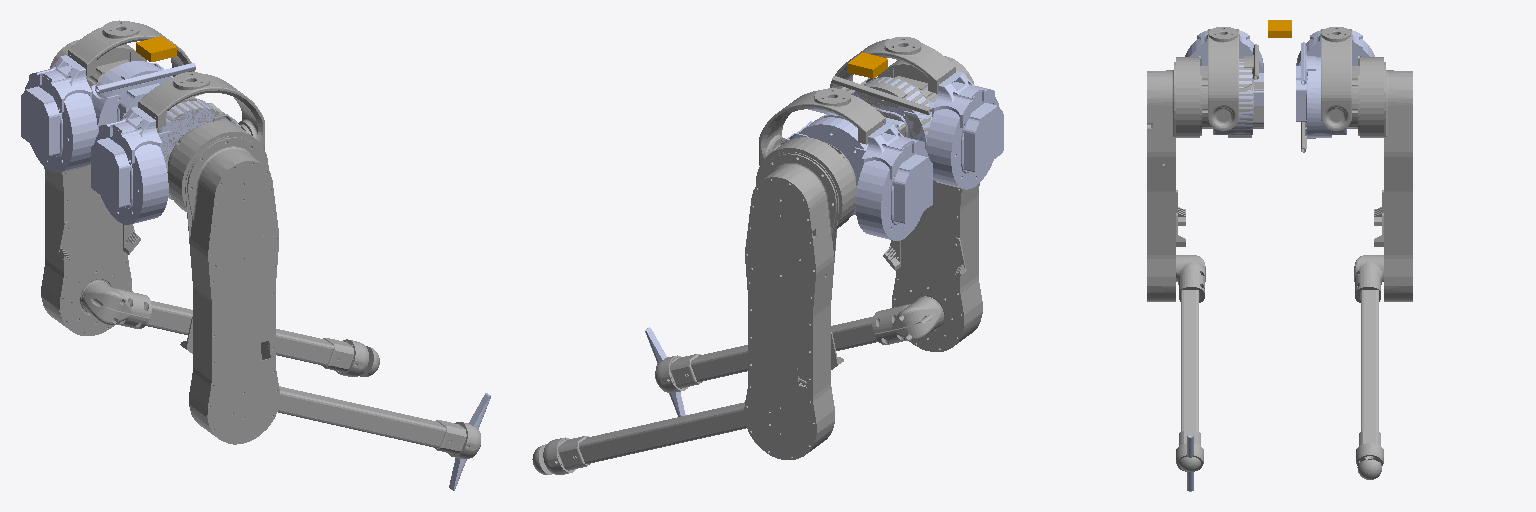
URDF robot description (biped):
<?xml version="1.0" encoding="utf-8"?>
<robot
    name="biped">

  <mujoco>
        <compiler 
        meshdir="../meshes_v2/" 
        balanceinertia="false" 
        discardvisual="false" />
  </mujoco>

  <!-- Imu -->
  <link name="imu">
    <visual>
      <origin xyz="0 0 0" rpy="0 0 0"/>
      <geometry>
      <box size="0.03 0.03 0.01"/>
      </geometry>
    </visual>

    <inertial>
      <mass value="0.01" />
      <origin xyz="0 0 0" rpy="0 0 0"/>
      <inertia ixx="1e-5" ixy="0" ixz="0" iyy="1e-5" iyz="0" izz="1e-5" />
    </inertial>
  </link>

  <joint name="imu_joint" type="fixed">
      <origin xyz="0 0 0" rpy="-3.141592 0 0"/>
      <parent link="base_link"/>
      <child link="imu"/>
  </joint>  

  <link
name="base_link">
    <inertial>
      <origin
        xyz="-0.022 0 0.068"
        rpy="0 0 0" />
      <mass
        value="3.272" />
      <inertia
        ixx="0.018"
        ixy="0.0"
        ixz="0.0"
        iyy="0.030"
        iyz="0.0"
        izz="0.026" />
    </inertial>
    <visual>
      <origin
        xyz="0 0 0"
        rpy="0 0 0" />
      <geometry>
        <mesh
          filename="package://biped_robot_description/meshes_v2/base_link_v2.STL" />
      </geometry>
      <material
        name="">
        <color
          rgba="0.75294 0.75294 0.75294 1" />
      </material>
    </visual>
    <collision>
      <origin
        xyz="0 0 0"
        rpy="0 0 0" />
      <geometry>
        <mesh
          filename="package://biped_robot_description/meshes_v2/base_link_v2.STL" />
      </geometry>
    </collision>
  </link>
  <link
    name="R_HIP">
    <inertial>
      <origin
        xyz="-0.0542 0.0 -0.072"
        rpy="0 0 0" />
      <mass
        value="0.624" />
      <inertia
        ixx="0.002"
        ixy="0.0"
        ixz="0.0"
        iyy="0.001"
        iyz="0.0"
        izz="0.001" />
    </inertial>
    <visual>
      <origin
        xyz="0 0 0"
        rpy="0 0 0" />
      <geometry>
        <mesh
          filename="package://biped_robot_description/meshes_v2/R_HIP.STL" />
      </geometry>
      <material
        name="">
        <color
          rgba="0.69804 0.69804 0.69804 1" />
      </material>
    </visual>
    <collision>
      <origin
        xyz="0 0 0"
        rpy="0 0 0" />
      <geometry>
        <mesh
          filename="package://biped_robot_description/meshes_v2/R_HIP.STL" />
      </geometry>
    </collision>
  </link>
  <joint
    name="R_YAW"
    type="revolute">
    <origin
      xyz="0 -0.07 -0.005"
      rpy="0 0 0" />
    <parent
      link="base_link" />
    <child
      link="R_HIP" />
    <axis
      xyz="0 0 1" />
    <limit
      lower="-0.3"
      upper="0.3"
      effort="20"
      velocity="20" />
  </joint>
  <link
    name="R_SHOULDER">
    <inertial>
      <origin
        xyz="-0.0020134 0.022813 -0.00077458"
        rpy="0 0 0" />
      <mass
        value="0.524" />
      <inertia
        ixx="0.0003"
        ixy="0.0"
        ixz="0.0"
        iyy="0.00068"
        iyz="0.0"
        izz="0.00048" />
    </inertial>
    <visual>
      <origin
        xyz="0 0 0"
        rpy="0 0 0" />
      <geometry>
        <mesh
          filename="package://biped_robot_description/meshes_v2/R_SHOULDER.STL" />
      </geometry>
      <material
        name="">
        <color
          rgba="0.79216 0.81961 0.93333 1" />
      </material>
    </visual>
    <collision>
      <origin
        xyz="0 0 0"
        rpy="0 0 0" />
      <geometry>
        <mesh
          filename="package://biped_robot_description/meshes_v2/R_SHOULDER.STL" />
      </geometry>
    </collision>
  </link>
  <joint
    name="R_HAA"
    type="revolute">
    <origin
      xyz="0.005 0 -0.086"
      rpy="0 0 0" />
    <parent
      link="R_HIP" />
    <child
      link="R_SHOULDER" />
    <axis
      xyz="1 0 0" />
    <limit
      lower="-0.25"
      upper="0.25"
      effort="20"
      velocity="20" />
  </joint>
  <link
    name="R_UPPER_LEG">
    <inertial>
      <origin
        xyz="0.0 -0.058 -0.054"
        rpy="0 0 0" />
      <mass
        value="0.880" />
      <inertia
        ixx="0.008"
        ixy="0.0"
        ixz="0.0"
        iyy="0.008"
        iyz="0.0"
        izz="0.001" />
    </inertial>
    <visual>
      <origin
        xyz="0 0 0"
        rpy="0 0 0" />
      <geometry>
        <mesh
          filename="package://biped_robot_description/meshes_v2/R_UPPER_LEG.STL" />
      </geometry>
      <material
        name="">
        <color
          rgba="0.69804 0.69804 0.69804 1" />
      </material>
    </visual>
    <collision>
      <origin
        xyz="0 0 0"
        rpy="0 0 0" />
      <geometry>
        <mesh
          filename="package://biped_robot_description/meshes_v2/R_UPPER_LEG.STL" />
      </geometry>
    </collision>
  </link>
  <joint
    name="R_HFE"
    type="revolute">
    <origin
      xyz="0 0 0"
      rpy="0 0 0" />
    <parent
      link="R_SHOULDER" />
    <child
      link="R_UPPER_LEG" />
    <axis
      xyz="0 1 0" />
    <limit
      lower="-1.5"
      upper="1.5"
      effort="20"
      velocity="20" />
  </joint>
  <link
    name="R_LOWER_LEG">
    <inertial>
      <origin
        xyz="0.0 0.017 -0.150"
        rpy="0 0 0" />
      <mass
        value="0.118" />
      <inertia
        ixx="0.0017"
        ixy="0.0"
        ixz="0.0"
        iyy="0.0017"
        iyz="0.0"
        izz="0.0000001" />
    </inertial>
    <visual>
      <origin
        xyz="0 0 0"
        rpy="0 0 0" />
      <geometry>
        <mesh
          filename="package://biped_robot_description/meshes_v2/R_LOWER_LEG.STL" />
      </geometry>
      <material
        name="">
        <color
          rgba="0.698039215686274 0.698039215686274 0.698039215686274 1" />
      </material>
    </visual>
    <collision>
      <origin
        xyz="0 0 0"
        rpy="0 0 0" />
      <geometry>
        <mesh
          filename="package://biped_robot_description/meshes_v2/R_LOWER_LEG.STL" />
      </geometry>
    </collision>
  </link>
  <joint
    name="R_KFE"
    type="revolute">
    <origin
      xyz="0 -0.0584 -0.23405"
      rpy="0 0 0" />
    <parent
      link="R_UPPER_LEG" />
    <child
      link="R_LOWER_LEG" />
    <axis
      xyz="0 1 0" />
    <limit
      lower="-2.2"
      upper="-0.1"
      effort="20"
      velocity="20" />
  </joint>
  <link
    name="R_FOOT">
    <inertial>
      <origin
        xyz="-0.00185 4.9998E-05 -0.0083528"
        rpy="0 0 0" />
      <mass
        value="0.01012" />
      <inertia
        ixx="8.7764E-07"
        ixy="-5.0952E-13"
        ixz="-2.965E-13"
        iyy="8.3715E-07"
        iyz="2.3726E-13"
        izz="1.3924E-06" />
    </inertial>
    <visual>
      <origin
        xyz="0 0 0"
        rpy="0 0 0" />
      <geometry>
        <mesh
          filename="package://biped_robot_description/meshes/R_FOOT.STL" />
      </geometry>
      <material
        name="">
        <color
          rgba="0.79216 0.81961 0.93333 1" />
      </material>
    </visual>
    <collision>
      <origin
        xyz="0 0 0"
        rpy="0 0 0" />
      <geometry>
        <mesh
          filename="package://biped_robot_description/meshes/R_FOOT.STL" />
      </geometry>
    </collision>
  </link>
  <joint
    name="R_ANKLE"
    type="revolute">
    <origin
      xyz="0.000 0.0173 -0.30326"
      rpy="0 0 0" />
    <parent
      link="R_LOWER_LEG" />
    <child
      link="R_FOOT" />
    <axis
      xyz="0 1 0" />
    <limit
      lower="-1.6"
      upper="1.6"
      effort="20"
      velocity="20" />
  </joint>

    <link name="R_FOOT_CONTACT"></link>
  <joint
    name="R_FOOT_CONTACT_JOINT"
    type="fixed">
    <origin
      xyz="0.0 0.0173 -0.30326"
      rpy="0 0 0" />
    <parent link="R_LOWER_LEG" />
    <child link="R_FOOT_CONTACT" />
  </joint>  

  
    <link
    name="L_HIP">
    <inertial>
      <origin
        xyz="-0.0542 0.0 -0.072"
        rpy="0 0 0" />
      <mass
        value="0.624" />
      <inertia
        ixx="0.002"
        ixy="0.0"
        ixz="0.0"
        iyy="0.001"
        iyz="0.0"
        izz="0.001" />
    </inertial>
    <visual>
      <origin
        xyz="0 0 0"
        rpy="0 0 0" />
      <geometry>
        <mesh
          filename="package://biped_robot_description/meshes_v2/L_HIP.STL" />
      </geometry>
      <material
        name="">
        <color
          rgba="0.69804 0.69804 0.69804 1" />
      </material>
    </visual>
    <collision>
      <origin
        xyz="0 0 0"
        rpy="0 0 0" />
      <geometry>
        <mesh
          filename="package://biped_robot_description/meshes_v2/L_HIP.STL" />
      </geometry>
    </collision>
  </link>
  <joint
    name="L_YAW"
    type="revolute">
    <origin
      xyz="0 0.07 -0.005"
      rpy="0 0 0" />
    <parent
      link="base_link" />
    <child
      link="L_HIP" />
    <axis
      xyz="0 0 1" />
    <limit
      lower="-0.3"
      upper="0.3"
      effort="20"
      velocity="20" />
  </joint>
  <link
    name="L_SHOULDER">
    <inertial>
      <origin
        xyz="-0.0020134 0.022813 -0.00077458"
        rpy="0 0 0" />
      <mass
        value="0.524" />
      <inertia
        ixx="0.0003"
        ixy="0.0"
        ixz="0.0"
        iyy="0.00068"
        iyz="0.0"
        izz="0.00048" />
    </inertial>
    <visual>
      <origin
        xyz="0 0 0"
        rpy="0 0 0" />
      <geometry>
        <mesh
          filename="package://biped_robot_description/meshes_v2/L_SHOULDER.STL" />
      </geometry>
      <material
        name="">
        <color
          rgba="0.792156862745098 0.819607843137255 0.933333333333333 1" />
      </material>
    </visual>
    <collision>
      <origin
        xyz="0 0 0"
        rpy="0 0 0" />
      <geometry>
        <mesh
          filename="package://biped_robot_description/meshes_v2/L_SHOULDER.STL" />
      </geometry>
    </collision>
  </link>
  <joint
    name="L_HAA"
    type="revolute">
    <origin
      xyz="0.005 0 -0.086"
      rpy="0 0 0" />
    <parent
      link="L_HIP" />
    <child
      link="L_SHOULDER" />
    <axis
      xyz="1 0 0" />
    <limit
      lower="-0.25"
      upper="0.25"
      effort="20"
      velocity="20" />
  </joint>
  <link
    name="L_UPPER_LEG">
    <inertial>
      <origin
        xyz="3.4626E-05 0.058 -0.054"
        rpy="0 0 0" />
      <mass
        value="0.880" />
      <inertia
        ixx="0.008"
        ixy="0.0"
        ixz="0.0"
        iyy="0.008"
        iyz="0.0"
        izz="0.001" />
    </inertial>
    <visual>
      <origin
        xyz="0 0 0"
        rpy="0 0 0" />
      <geometry>
        <mesh
          filename="package://biped_robot_description/meshes_v2/L_UPPER_LEG.STL" />
      </geometry>
      <material
        name="">
        <color
          rgba="0.69804 0.69804 0.69804 1" />
      </material>
    </visual>
    <collision>
      <origin
        xyz="0 0 0"
        rpy="0 0 0" />
      <geometry>
        <mesh
          filename="package://biped_robot_description/meshes_v2/L_UPPER_LEG.STL" />
      </geometry>
    </collision>
  </link>
  <joint
    name="L_HFE"
    type="revolute">
    <origin
      xyz="0 0 0"
      rpy="0 0 0" />
    <parent
      link="L_SHOULDER" />
    <child
      link="L_UPPER_LEG" />
    <axis
      xyz="0 1 0" />
    <limit
      lower="-1.5"
      upper="1.5"
      effort="20"
      velocity="20" />
  </joint>
  <link
    name="L_LOWER_LEG">
    <inertial>
      <origin
        xyz="-1.356E-05 -0.017 -0.150"
        rpy="0 0 0" />
      <mass
        value="0.118" />
      <inertia
        ixx="0.0017"
        ixy="0.0"
        ixz="0.0"
        iyy="0.0017"
        iyz="0.0"
        izz="0.0000001" />
    </inertial>
    <visual>
      <origin
        xyz="0 0 0"
        rpy="0 0 0" />
      <geometry>
        <mesh
          filename="package://biped_robot_description/meshes_v2/L_LOWER_LEG.STL" />
      </geometry>
      <material
        name="">
        <color
          rgba="0.69804 0.69804 0.69804 1" />
      </material>
    </visual>
    <collision>
      <origin
        xyz="0 0 0"
        rpy="0 0 0" />
      <geometry>
        <mesh
          filename="package://biped_robot_description/meshes_v2/L_LOWER_LEG.STL" />
      </geometry>
    </collision>
  </link>
  <joint
    name="L_KFE"
    type="revolute">
    <origin
      xyz="0 0.0589 -0.23405"
      rpy="0 0 0" />
    <parent
      link="L_UPPER_LEG" />
    <child
      link="L_LOWER_LEG" />
    <axis
      xyz="0 1 0" />
    <limit
      lower="-2.2"
      upper="-0.1"
      effort="20"
      velocity="20" />
  </joint>
  <link
    name="L_FOOT">
    <inertial>
      <origin
        xyz="-0.00185 -4.9998E-05 -0.0083528"
        rpy="0 0 0" />
      <mass
        value="0.01012" />
      <inertia
        ixx="8.7764E-07"
        ixy="-5.0952E-13"
        ixz="2.965E-13"
        iyy="8.3715E-07"
        iyz="-2.3726E-13"
        izz="1.3924E-06" />
    </inertial>
    <visual>
      <origin
        xyz="0 0 0"
        rpy="0 0 0" />
      <geometry>
        <mesh
          filename="package://biped_robot_description/meshes/L_FOOT.STL" />
      </geometry>
      <material
        name="">
        <color
          rgba="0.29804 0.29804 0.29804 1" />
      </material>
    </visual>
    <collision>
      <origin
        xyz="0 0 0"
        rpy="0 0 0" />
      <geometry>
        <mesh
          filename="package://biped_robot_description/meshes/L_FOOT.STL" />
      </geometry>
    </collision>
  </link>
  <joint
    name="L_ANKLE"
    type="revolute">
    <origin
      xyz="0.00 -0.0173 -0.30326"
      rpy="0 0 0" />
    <parent
      link="L_LOWER_LEG" />
    <child
      link="L_FOOT" />
    <axis
      xyz="0 1 0" />
    <limit
      lower="-1.6"
      upper="1.6"
      effort="20"
      velocity="20" />
  </joint>

  <link name="L_FOOT_CONTACT"></link>
  <joint
    name="L_FOOT_CONTACT_JOINT"
    type="fixed">
    <origin
      xyz="0.0 -0.0173 -0.30326"
      rpy="0 0 0" />
    <parent link="L_LOWER_LEG" />
    <child link="L_FOOT_CONTACT" />
  </joint>

</robot>

--- What the picture shows (computed from the rendered views, not written in the file) ---
3 views of the same robot in one strip: view 1: azimuth 30°, elevation 25°; view 2: azimuth 150°, elevation 25°; view 3: azimuth 270°, elevation 25° (orthographic).
Model biped with 14 links and 13 joints (10 revolute, 3 fixed), rooted at base_link, posed joints at zero except 2 at the middle of their limits (R_KFE = -1.15, L_KFE = -1.15).
Visible links, largest first — view 1: R_UPPER_LEG, L_UPPER_LEG, L_SHOULDER, R_SHOULDER, L_LOWER_LEG, R_LOWER_LEG, R_HIP, L_HIP, imu, R_FOOT; view 2: L_UPPER_LEG, R_UPPER_LEG, L_SHOULDER, R_SHOULDER, R_LOWER_LEG, L_LOWER_LEG, L_HIP, R_HIP, imu, R_FOOT; view 3: R_UPPER_LEG, L_UPPER_LEG, L_LOWER_LEG, R_LOWER_LEG, R_HIP, L_HIP, L_SHOULDER, R_SHOULDER.
Boxes of the visible links, x1,y1,x2,y2 form: R_UPPER_LEG: [122, 93, 279, 444]; L_UPPER_LEG: [41, 40, 146, 335]; L_SHOULDER: [21, 55, 195, 172]; R_SHOULDER: [91, 98, 240, 224]; L_LOWER_LEG: [81, 281, 379, 376]; R_LOWER_LEG: [278, 386, 480, 458]; R_HIP: [138, 72, 264, 149]; L_HIP: [68, 20, 194, 76]; imu: [136, 36, 176, 61]; R_FOOT: [449, 393, 490, 490]; L_UPPER_LEG: [744, 137, 856, 459]; R_UPPER_LEG: [832, 56, 982, 351]; L_SHOULDER: [783, 109, 932, 240]; R_SHOULDER: [851, 71, 1003, 189]; R_LOWER_LEG: [655, 297, 942, 392]; L_LOWER_LEG: [532, 402, 746, 474]; L_HIP: [759, 88, 885, 165]; R_HIP: [830, 37, 955, 92]; imu: [847, 52, 887, 78]; R_FOOT: [645, 327, 685, 416]; R_UPPER_LEG: [1147, 44, 1263, 301]; L_UPPER_LEG: [1301, 57, 1412, 301]; L_LOWER_LEG: [1354, 255, 1383, 479]; R_LOWER_LEG: [1176, 255, 1205, 471]; R_HIP: [1208, 27, 1238, 130]; L_HIP: [1321, 27, 1351, 130]; L_SHOULDER: [1296, 30, 1374, 137]; R_SHOULDER: [1185, 30, 1263, 135].
Bounding box of the posed robot: 0.4188 × 0.3308 × 0.5084 m (x, y, z).
9 mesh visuals loaded from 11 distinct referenced files (9 binary STL); not drawn: 2 (reference not matched to a file when rendering).